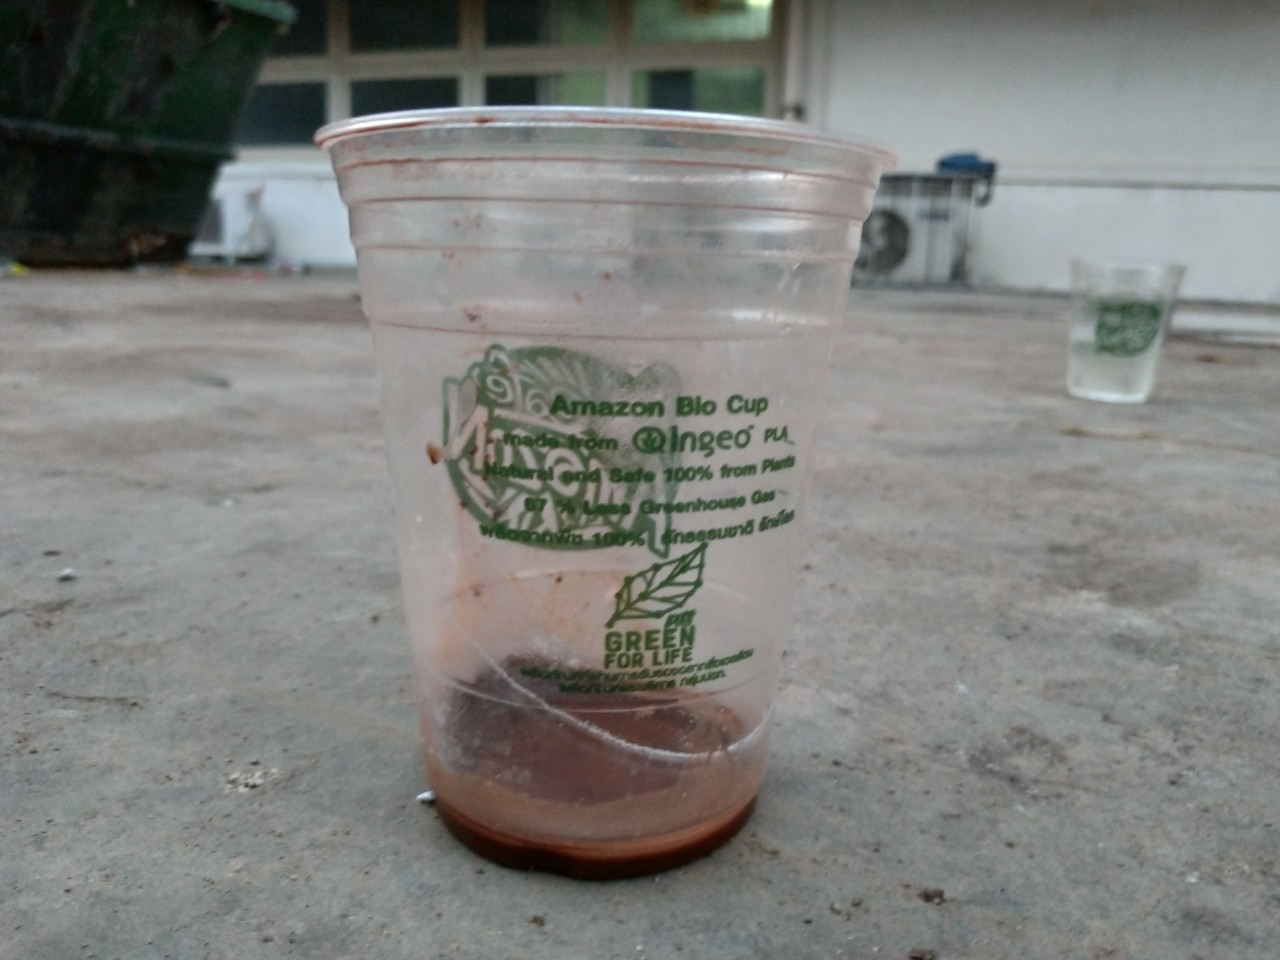PlasticCup: (314, 103, 895, 878), (1052, 244, 1189, 406)
